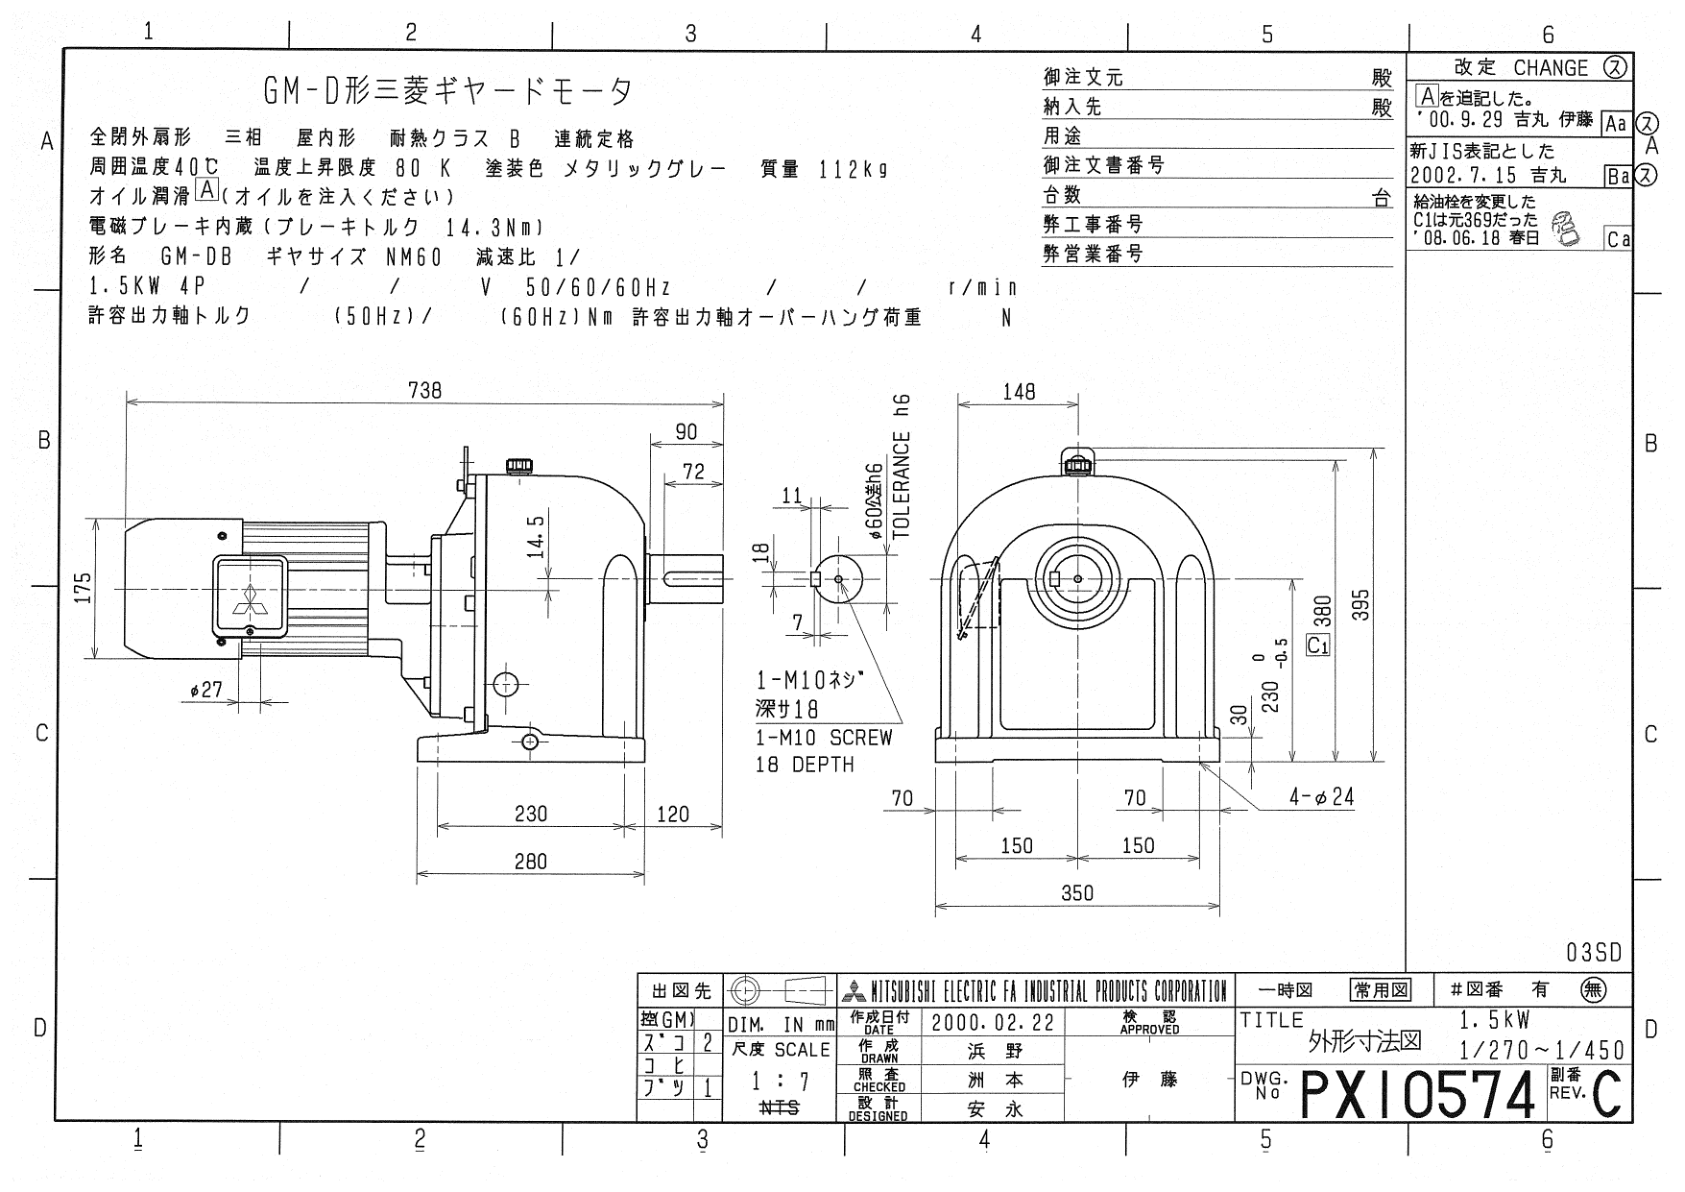GM_D_屋内＿三相_脚: (68, 346, 1392, 962)
